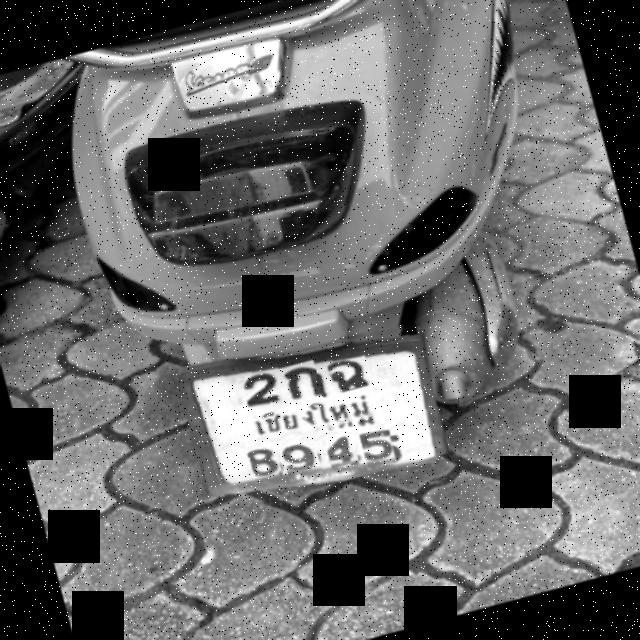letters: (276, 359, 324, 409), (240, 368, 286, 414), (280, 433, 322, 481), (358, 422, 397, 468), (327, 353, 372, 392), (246, 442, 284, 486), (324, 430, 359, 468)
license-plate: (190, 343, 439, 495)
province: (248, 383, 386, 450)
